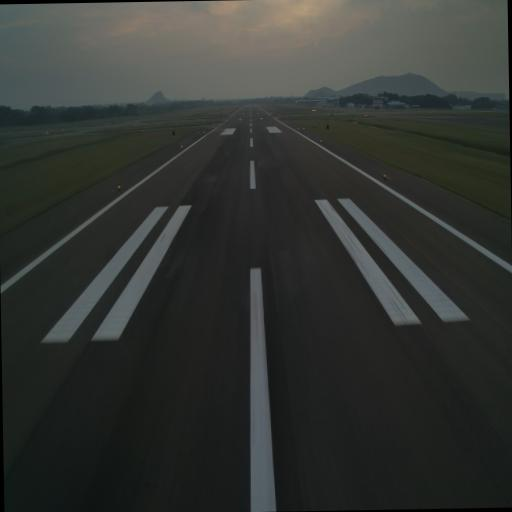on: (382, 171, 389, 180), (117, 182, 122, 192)
